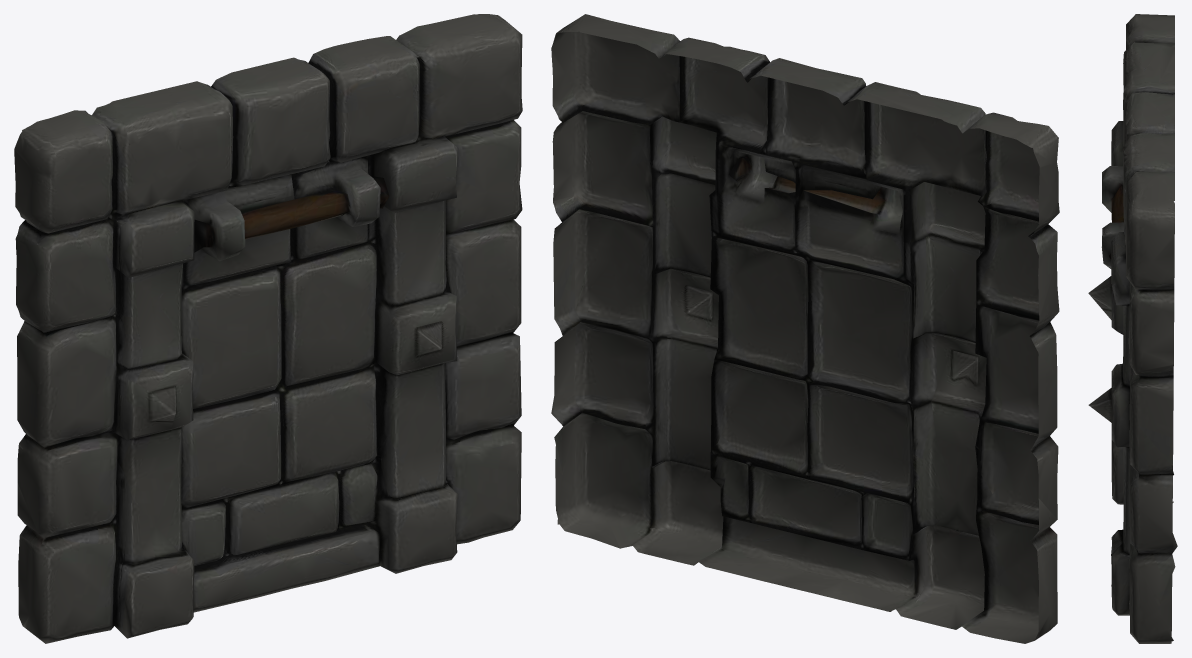
The model's file is Wall_BannerEmpty.fbx.
The picture shows the model from 3 angles, left to right: view 1: azimuth 30°, elevation 25°; view 2: azimuth 150°, elevation 25°; view 3: azimuth 270°, elevation 25°; orthographic projection. The views are drawn at different scales.
Parts seen in each view (by area): view 1: Wall_BannerEmpty; view 2: Wall_BannerEmpty; view 3: Wall_BannerEmpty.
Boxes of the visible parts, x1,y1,x2,y2 form: Wall_BannerEmpty: (14, 14, 522, 643); Wall_BannerEmpty: (551, 14, 1059, 643); Wall_BannerEmpty: (1088, 14, 1177, 643).
Size of the model in its own units: 305 by 305 by 56.07.
